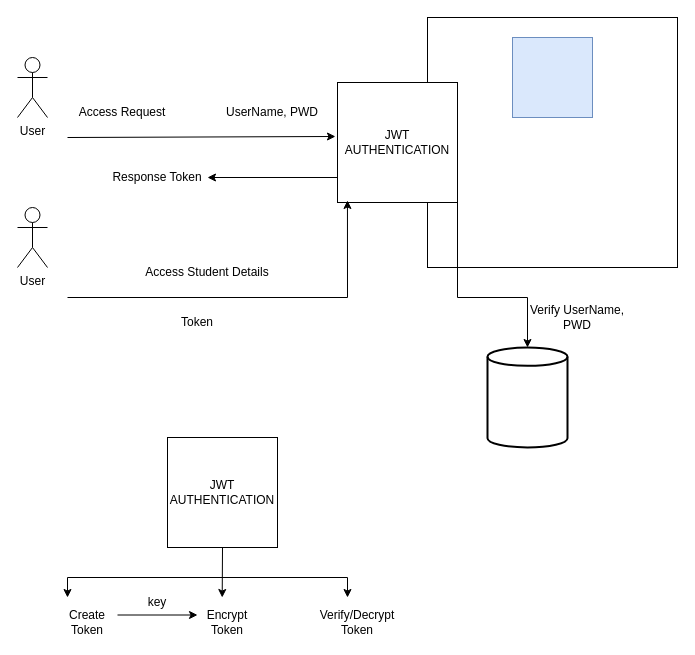
Some shapes in this 695 by 655 pixel diagram are drawn without their labels. The box of each missing label's shape, as (x1, y1, x2, y2) in pixels:
MongoDB: (486, 346, 568, 448)
REST API: (512, 36, 592, 118)
